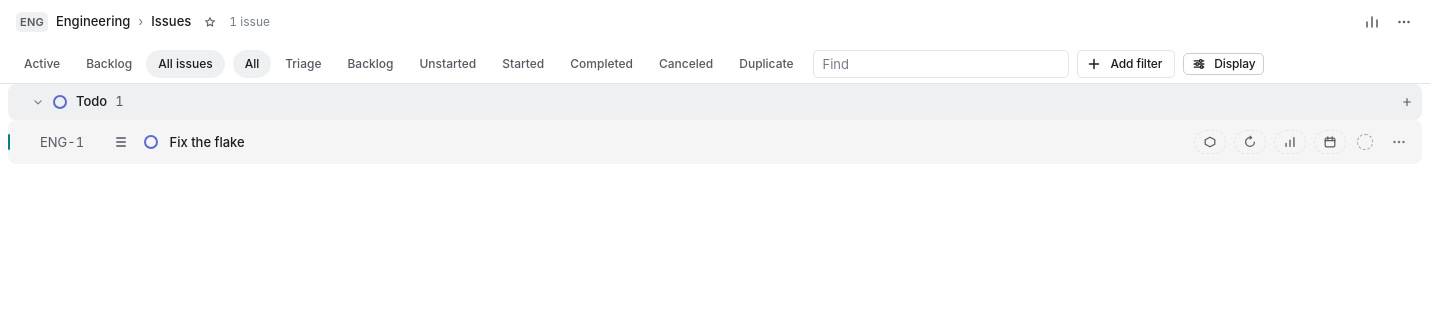
a row whose properties are not set yet › opens the cycle picker from the row that has no cycle
Click the button named "No cycle": [1250, 142] box [1234,130,1266,154]
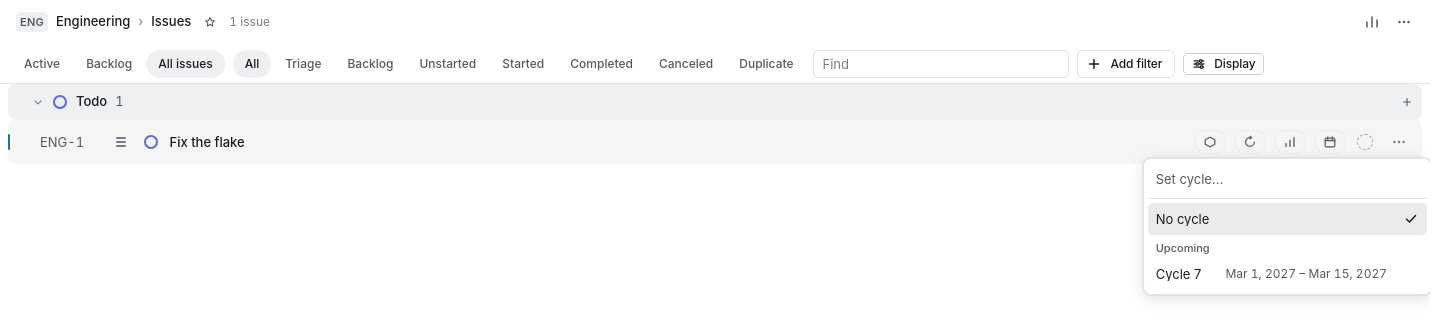
Expected: the menu "cycle" is shown, [1148,203,1427,290]
